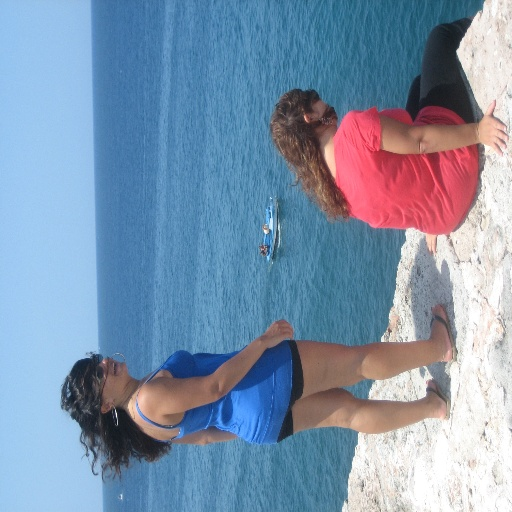hand: (470, 85, 509, 143), (261, 317, 294, 350), (423, 232, 438, 256)
